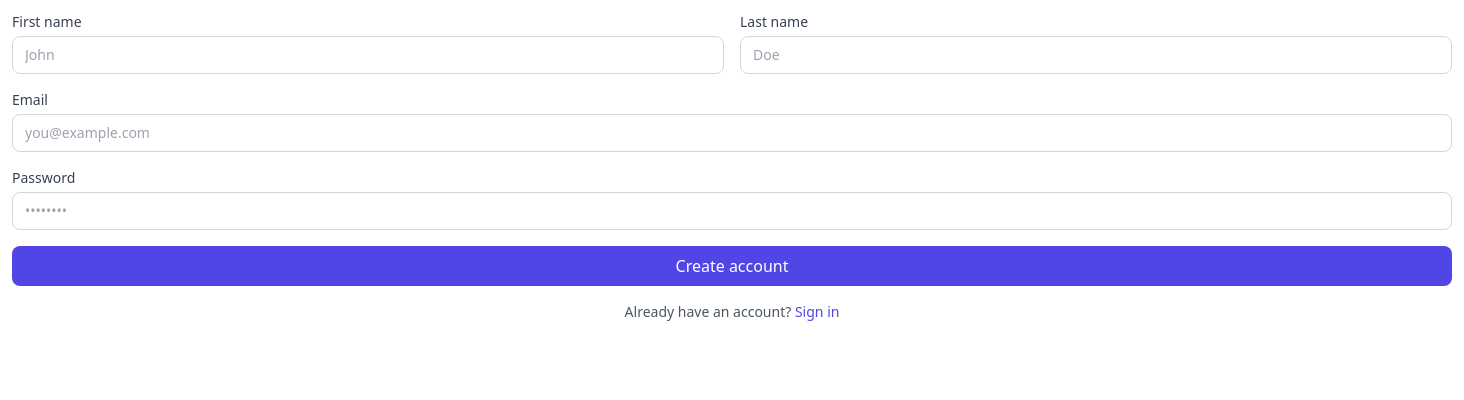
Test: RegisterForm › shows error message on failed registration
The image size is (1464, 400).
Step 1. Type "existing@example.com" into the field labelled "Email" → [732, 133], box [12,114,1452,152]
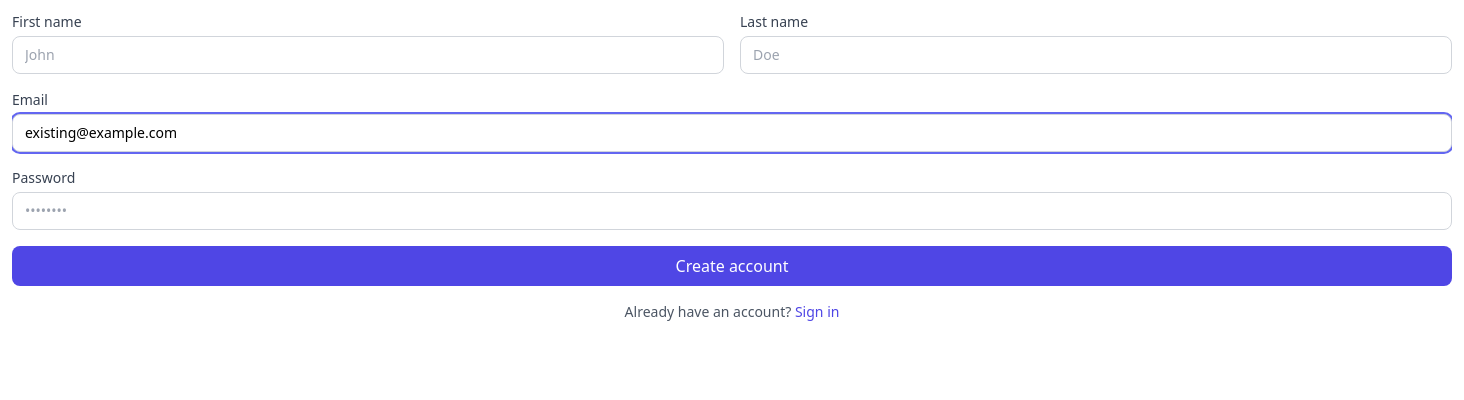
Step 2. Type "password123" into the password field labelled "Password" → [732, 211], box [12,192,1452,230]
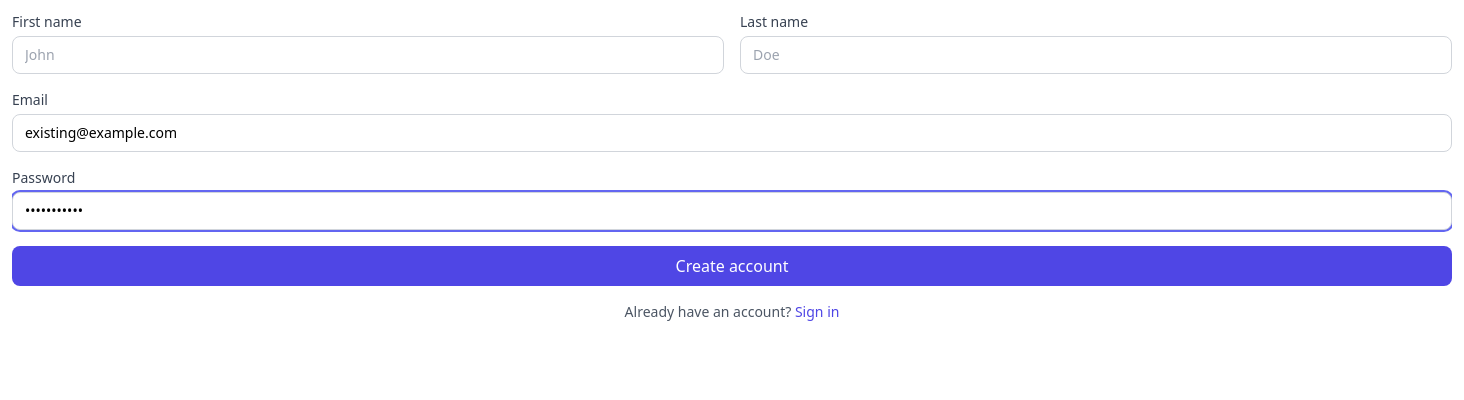
Step 3. Click the button "Create account" → [732, 266], box [12,246,1452,286]
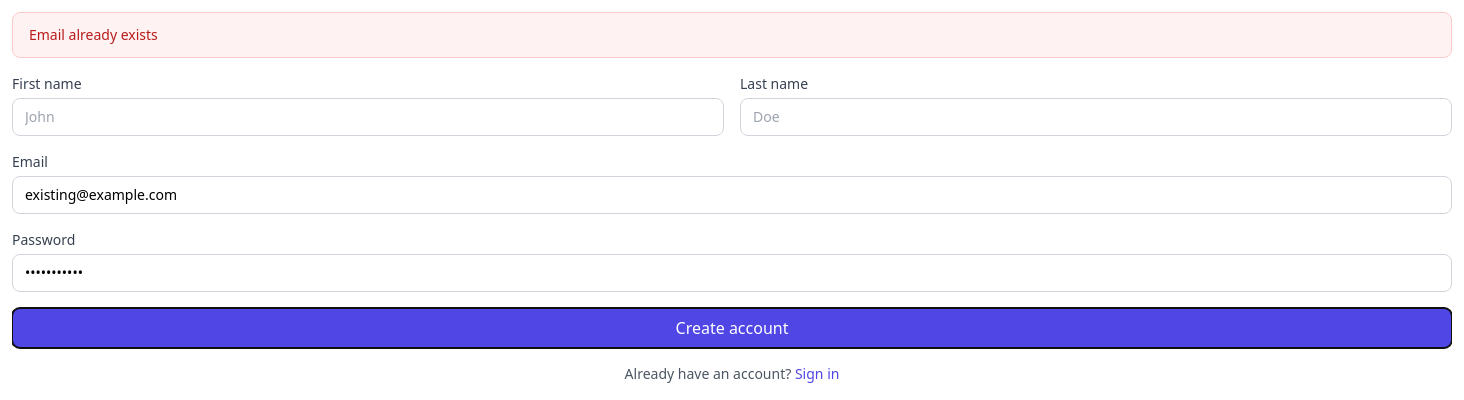
Expected: the text "Email already exists" is shown, [12,12,1452,58]
